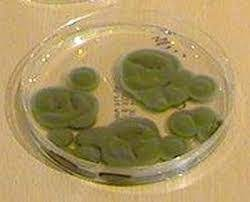Cladosporium: (120, 45, 214, 107), (80, 124, 157, 159), (31, 88, 95, 121), (167, 114, 217, 137), (69, 68, 101, 85)
